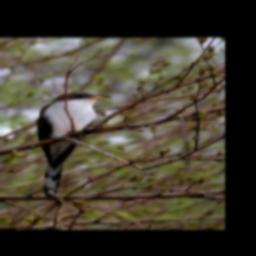Cuckoo: (34, 90, 112, 195)
